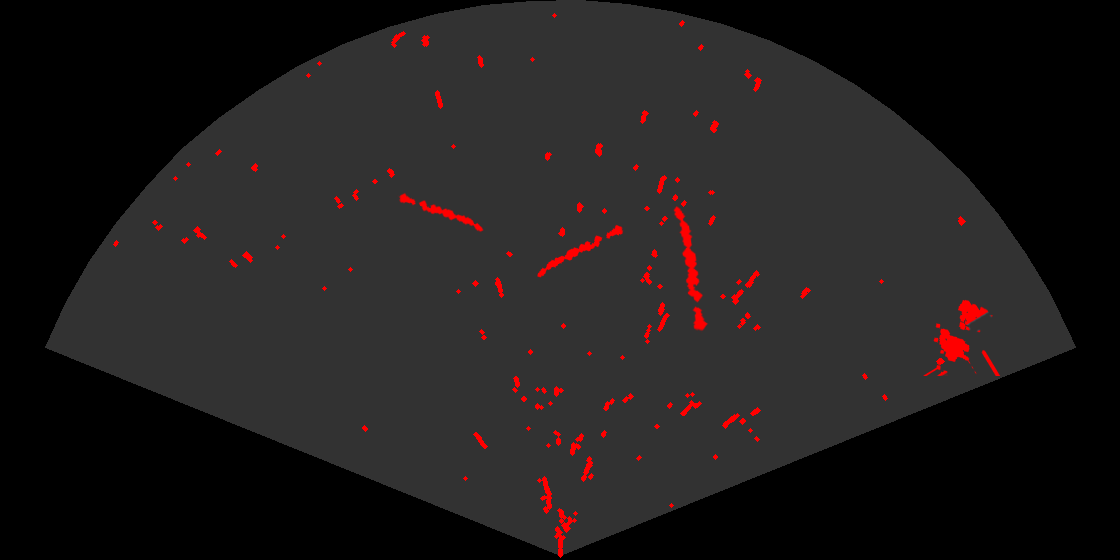cage: (922, 298, 1002, 376)
chain: (536, 223, 625, 279), (672, 205, 710, 333), (396, 191, 485, 234)
